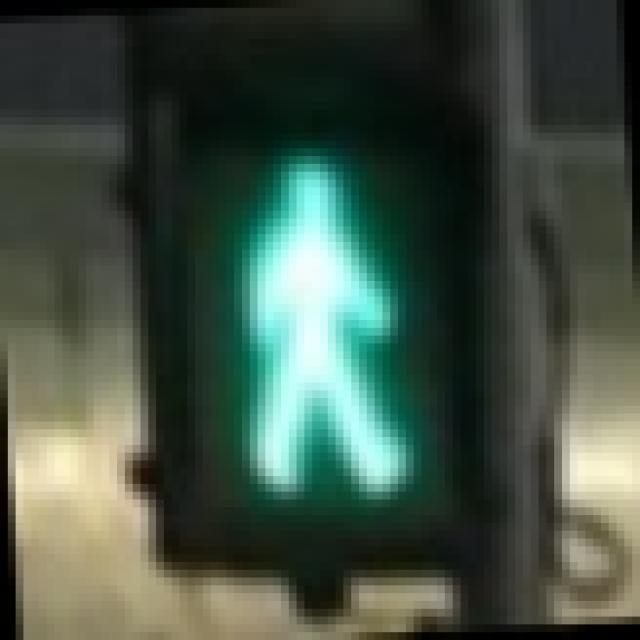geen-crossing: (140, 86, 477, 531)
